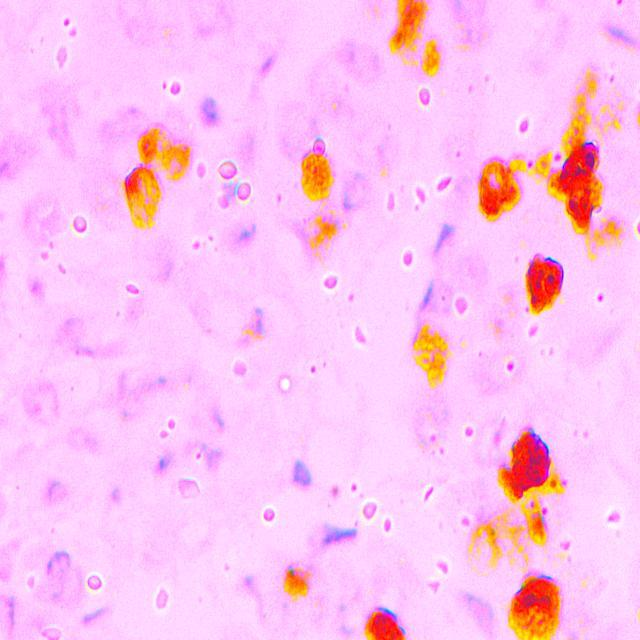Healthy cell: (430, 222, 490, 293), (33, 75, 87, 146), (25, 190, 74, 248), (18, 369, 68, 423), (214, 209, 266, 257), (40, 553, 83, 603), (272, 94, 312, 146), (116, 0, 155, 49), (318, 520, 367, 558), (335, 40, 380, 81), (338, 163, 372, 213), (192, 5, 236, 39), (38, 480, 72, 522), (400, 282, 448, 310), (24, 273, 62, 308), (198, 88, 228, 128), (292, 454, 312, 490), (443, 0, 484, 17)
cancer-cell-QiJm: (499, 420, 566, 500), (413, 316, 460, 402), (459, 512, 516, 580), (510, 564, 561, 640), (83, 149, 129, 222), (556, 60, 595, 142), (517, 248, 563, 316), (583, 215, 640, 268), (123, 164, 164, 230), (476, 156, 519, 218), (0, 128, 38, 192), (553, 189, 606, 234), (412, 402, 450, 464), (297, 148, 338, 205), (383, 0, 423, 55), (593, 92, 640, 136), (556, 142, 599, 190), (92, 115, 148, 151), (279, 553, 319, 603), (307, 215, 347, 264), (510, 500, 549, 550), (240, 294, 274, 346), (409, 32, 444, 79), (360, 604, 405, 640), (522, 143, 554, 188), (601, 21, 640, 57), (140, 120, 168, 170), (163, 139, 192, 182), (456, 22, 492, 54), (488, 315, 518, 351), (153, 16, 176, 54), (323, 83, 349, 114), (376, 164, 395, 184)
